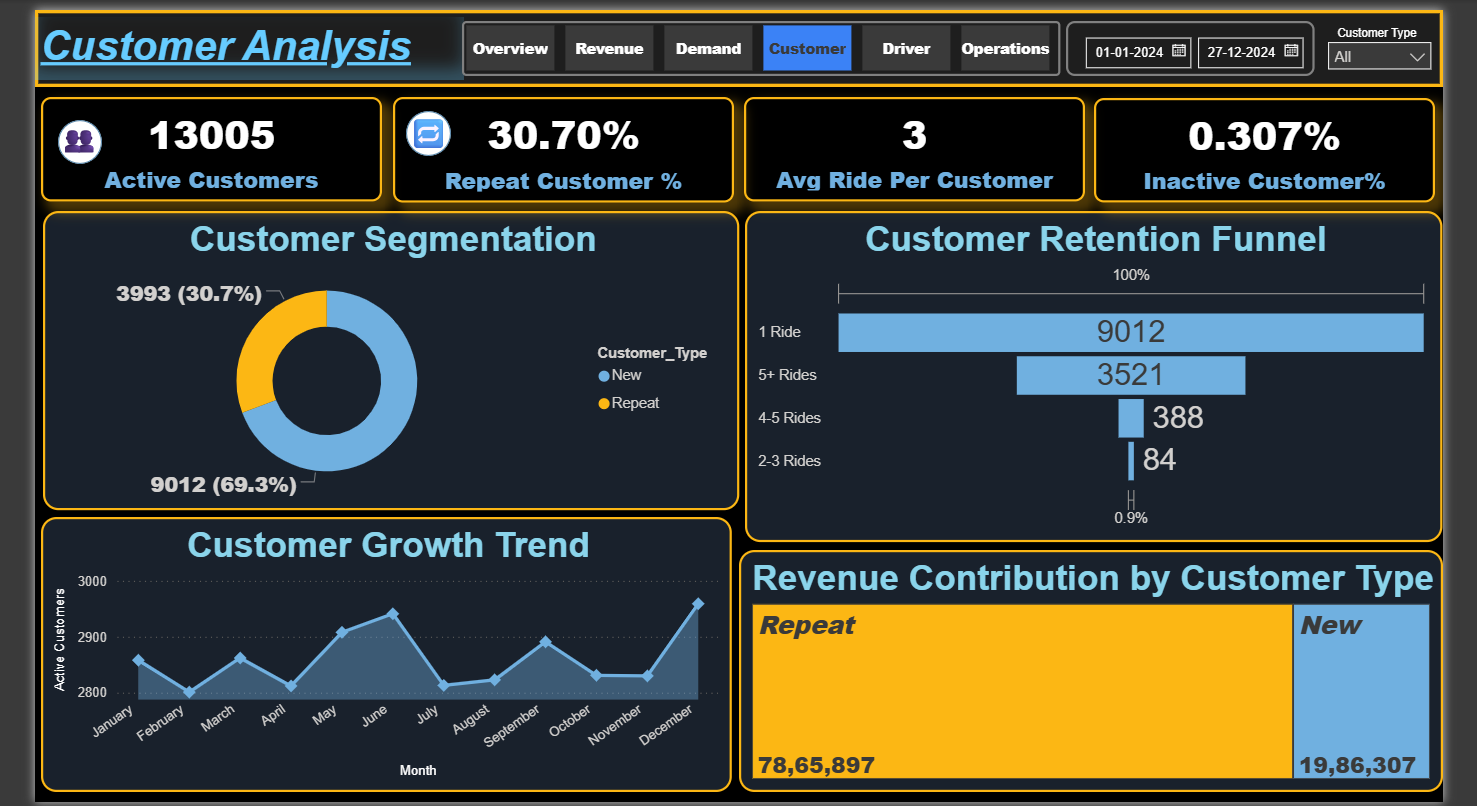

What the dashboard file says about the page in this screenshot:
{"tool":"powerbi","page":{"name":"Customer","canvas":[1280,720],"ordinal":3},"visuals":[{"type":"card","title":"Total Rides","fields":{"Values":["All Measures.Avg Ride Per Customer"]},"box":[644.5,79.1,310,95.5],"z":0},{"type":"funnel","title":"Customer Retention Funnel","fields":{"Category":["Rides.Ride_Bucket"],"Y":["All Measures.Active Customers"]},"box":[645,183,634,301],"z":1000},{"type":"donutChart","title":"Customer Segmentation","fields":{"Category":["Rides.Custoemr_Type"],"Y":["All Measures.Active Customers"]},"box":[7,183,633,272],"z":2000},{"type":"treemap","title":"Revenue Contribution by Customer Type","fields":{"Values":["Sum(Rides.Final_Paid_Amt)"],"Group":["Rides.Customer_Type"]},"box":[640,491,640,220],"z":3000},{"type":"shape","box":[0,0,1280,70],"z":4000},{"type":"slicer","fields":{"Values":["Rides.Booking_Timestamp"]},"box":[937.3,10,226.4,50],"z":5000},{"type":"textbox","box":[0,6.4,390,57.3],"z":6000},{"type":"pageNavigator","box":[388.2,10,543.6,50],"z":7000},{"type":"slicer","fields":{"Values":["Rides.Customer_Type"]},"box":[1165,19,114,66],"z":8000},{"type":"textbox","box":[1172,7,96,25],"z":9000},{"type":"card","title":"Total Rides","fields":{"Values":["All Measures.Inactive Customer%"]},"box":[962.7,80,310,95.5],"z":10000},{"type":"areaChart","title":"Customer Growth Trend","fields":{"Category":["Rides.Booking_Timestamp.Variation.Date Hierarchy.Month"],"Y":["All Measures.Active Customers"]},"box":[5,461,628,250],"z":11000},{"type":"card","title":"Total Customers","fields":{"Values":["All Measures.Active Customers"]},"box":[5,79,310,95.5],"z":12000},{"type":"group","id":"g1","title":"Group 3","box":[17,92,48.2,50.9],"z":13000},{"type":"card","title":"Repeat Customer %","fields":{"Values":["All Measures.Repeat Customer %"]},"box":[325,79,310,96.4],"z":14000},{"type":"group","id":"g2","title":"Group 8","box":[334.1,88.1,57.3,47.3],"z":15000},{"type":"shape","box":[336.9,91.7,40.9,40.9],"z":17000,"group":"g2"},{"type":"shape","box":[20.6,100.1,40,40],"z":17000,"group":"g1"},{"type":"textbox","box":[334.1,88.1,57.3,47.3],"z":18000,"group":"g2"},{"type":"textbox","box":[17,92,48.2,50.9],"z":18000,"group":"g1"}]}

Visuals, with their boxes on the page's 1280x720 design canvas (x1, y1, x2, y2). These are canvas units, not pixel positions in the 1477x806 screenshot, which may show the page scaled, cropped or inside an application window:
"Total Rides" card: crop(644, 79, 954, 175)
"Customer Retention Funnel" funnel: crop(645, 183, 1279, 484)
"Customer Segmentation" donutChart: crop(7, 183, 640, 455)
"Revenue Contribution by Customer Type" treemap: crop(640, 491, 1280, 711)
shape: crop(0, 0, 1280, 70)
slicer - Rides.Booking_Timestamp: crop(937, 10, 1164, 60)
textbox: crop(0, 6, 390, 64)
pageNavigator: crop(388, 10, 932, 60)
slicer - Rides.Customer_Type: crop(1165, 19, 1279, 85)
textbox: crop(1172, 7, 1268, 32)
"Total Rides" card: crop(963, 80, 1273, 176)
"Customer Growth Trend" areaChart: crop(5, 461, 633, 711)
"Total Customers" card: crop(5, 79, 315, 174)
"Group 3" group: crop(17, 92, 65, 143)
"Repeat Customer %" card: crop(325, 79, 635, 175)
"Group 8" group: crop(334, 88, 391, 135)
shape: crop(337, 92, 378, 133)
shape: crop(21, 100, 61, 140)
textbox: crop(334, 88, 391, 135)
textbox: crop(17, 92, 65, 143)
